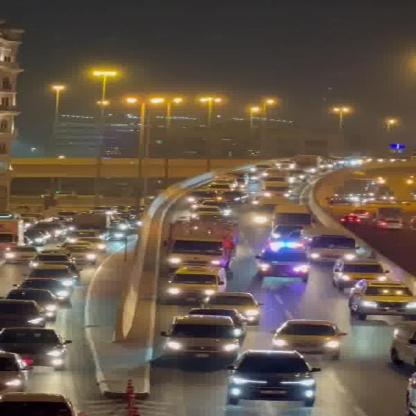priority: (251, 236, 311, 280)
